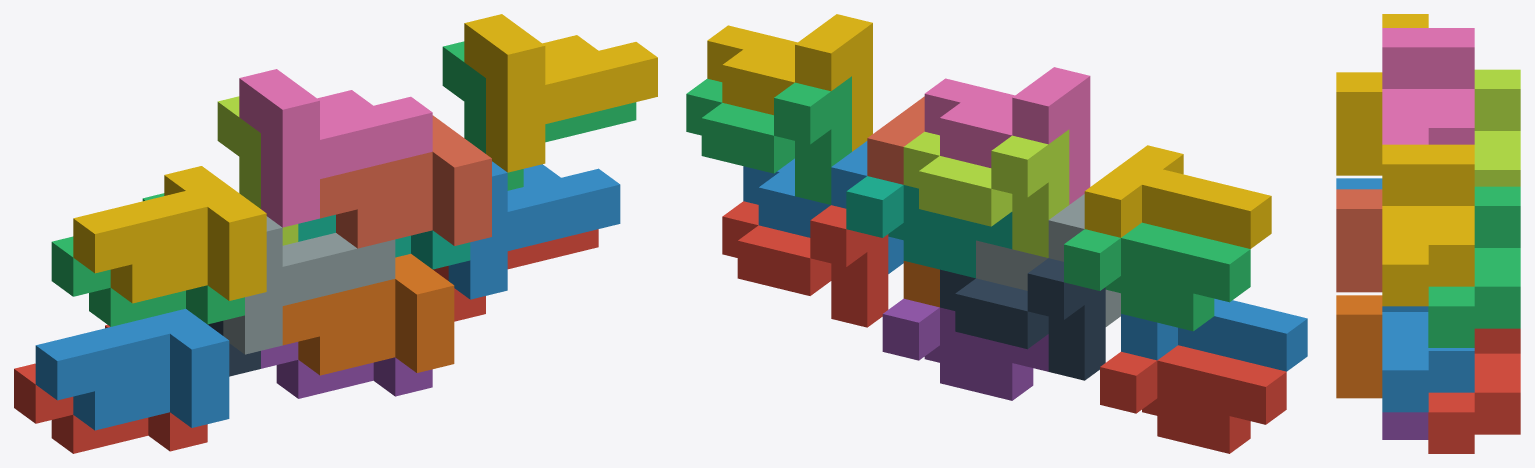
Rendered from tiling.obj.
3 renders of one model, left to right at view 1: azimuth 30°, elevation 25°; view 2: azimuth 150°, elevation 25°; view 3: azimuth 270°, elevation 25°, orthographic. The views are drawn at different scales.
Parts seen in each view (by area): view 1: copy_1_domain_4, copy_1_domain_2, copy_2_domain_8, copy_2_domain_4, copy_1_domain_8, copy_1_domain_6, copy_2_domain_6, copy_2_domain_2, copy_1_domain_3, copy_1_domain_1, copy_2_domain_7, copy_1_domain_5 (+4 smaller); view 2: copy_1_domain_1, copy_1_domain_3, copy_2_domain_3, copy_2_domain_7, copy_2_domain_5, copy_2_domain_4, copy_2_domain_1, copy_2_domain_8, copy_1_domain_4, copy_1_domain_5, copy_1_domain_7, copy_1_domain_2 (+4 smaller); view 3: copy_2_domain_8, copy_2_domain_4, copy_2_domain_7, copy_2_domain_5, copy_2_domain_6, copy_1_domain_4, copy_2_domain_3, copy_1_domain_6, copy_1_domain_8, copy_1_domain_5, copy_1_domain_2.
Boxes of the visible parts, left/top/right/bottom form: copy_1_domain_4: left=73, top=166, right=266, bottom=303; copy_1_domain_2: left=35, top=308, right=229, bottom=430; copy_2_domain_8: left=464, top=14, right=657, bottom=172; copy_2_domain_4: left=239, top=69, right=432, bottom=227; copy_1_domain_8: left=320, top=115, right=491, bottom=248; copy_1_domain_6: left=282, top=254, right=454, bottom=375; copy_2_domain_6: left=448, top=161, right=620, bottom=299; copy_2_domain_2: left=223, top=216, right=395, bottom=354; copy_1_domain_3: left=51, top=193, right=244, bottom=326; copy_1_domain_1: left=14, top=325, right=207, bottom=453; copy_2_domain_7: left=442, top=41, right=636, bottom=190; copy_1_domain_5: left=261, top=342, right=432, bottom=398; copy_1_domain_1: left=1100, top=345, right=1286, bottom=453; copy_1_domain_3: left=1064, top=222, right=1250, bottom=331; copy_2_domain_3: left=903, top=129, right=1069, bottom=257; copy_2_domain_7: left=686, top=76, right=851, bottom=204; copy_2_domain_5: left=722, top=201, right=888, bottom=327; copy_2_domain_4: left=924, top=67, right=1090, bottom=204; copy_2_domain_1: left=940, top=258, right=1105, bottom=380; copy_2_domain_8: left=707, top=14, right=872, bottom=151; copy_1_domain_4: left=1084, top=145, right=1271, bottom=248; copy_1_domain_5: left=882, top=298, right=1048, bottom=400; copy_1_domain_7: left=846, top=176, right=1012, bottom=278; copy_1_domain_2: left=1121, top=298, right=1307, bottom=371; copy_2_domain_8: left=1382, top=144, right=1474, bottom=306; copy_2_domain_4: left=1382, top=28, right=1474, bottom=144; copy_2_domain_7: left=1428, top=186, right=1520, bottom=347; copy_2_domain_5: left=1428, top=328, right=1520, bottom=453; copy_2_domain_6: left=1382, top=306, right=1474, bottom=412; copy_1_domain_4: left=1336, top=14, right=1428, bottom=175; copy_2_domain_3: left=1474, top=69, right=1520, bottom=186; copy_1_domain_6: left=1336, top=295, right=1382, bottom=398; copy_1_domain_8: left=1336, top=189, right=1382, bottom=292; copy_1_domain_5: left=1382, top=412, right=1428, bottom=439; copy_1_domain_2: left=1336, top=178, right=1382, bottom=189.
Size of the model in its own units: 16 by 8 by 4.
